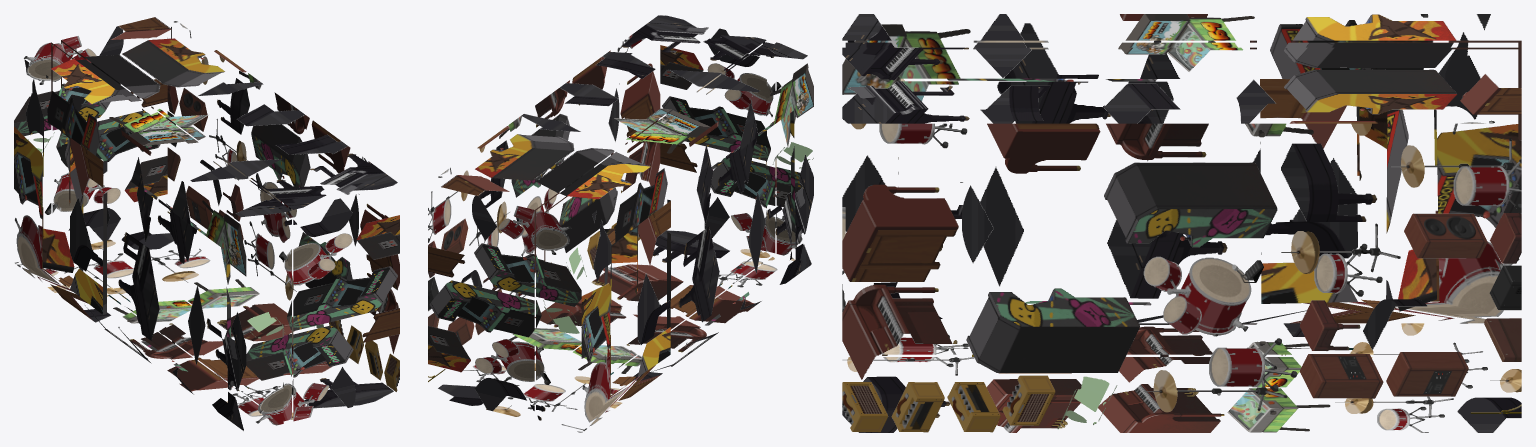
3 views of the same model, side by side, from view 1: azimuth 30°, elevation 25°; view 2: azimuth 150°, elevation 25°; view 3: azimuth 270°, elevation 25° (orthographic). The views are drawn at different scales.
Bounding box in the file's own units: 0.6455 × 0.8488 × 1.69.
